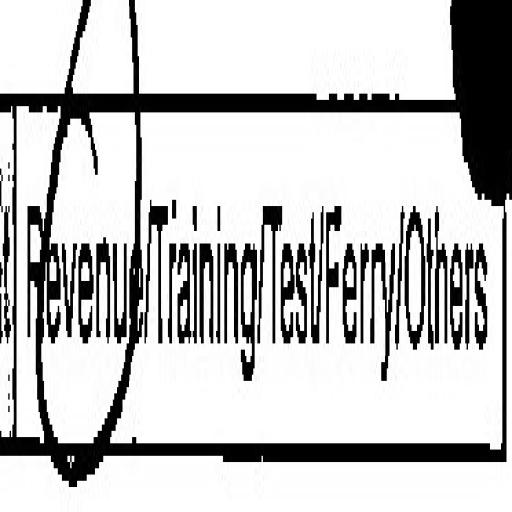check: (14, 0, 144, 487)
